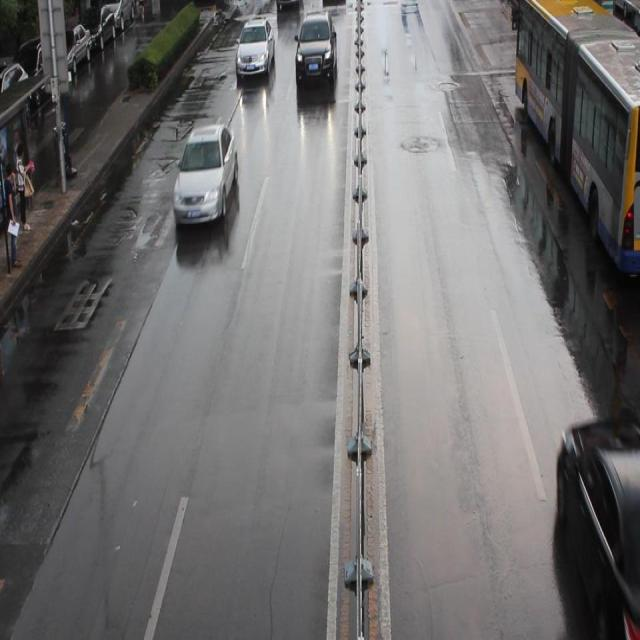car: (554, 418, 640, 639), (173, 125, 238, 227), (294, 12, 336, 84), (234, 17, 274, 85)
truck: (275, 1, 302, 19)
van: (514, 1, 640, 272)
